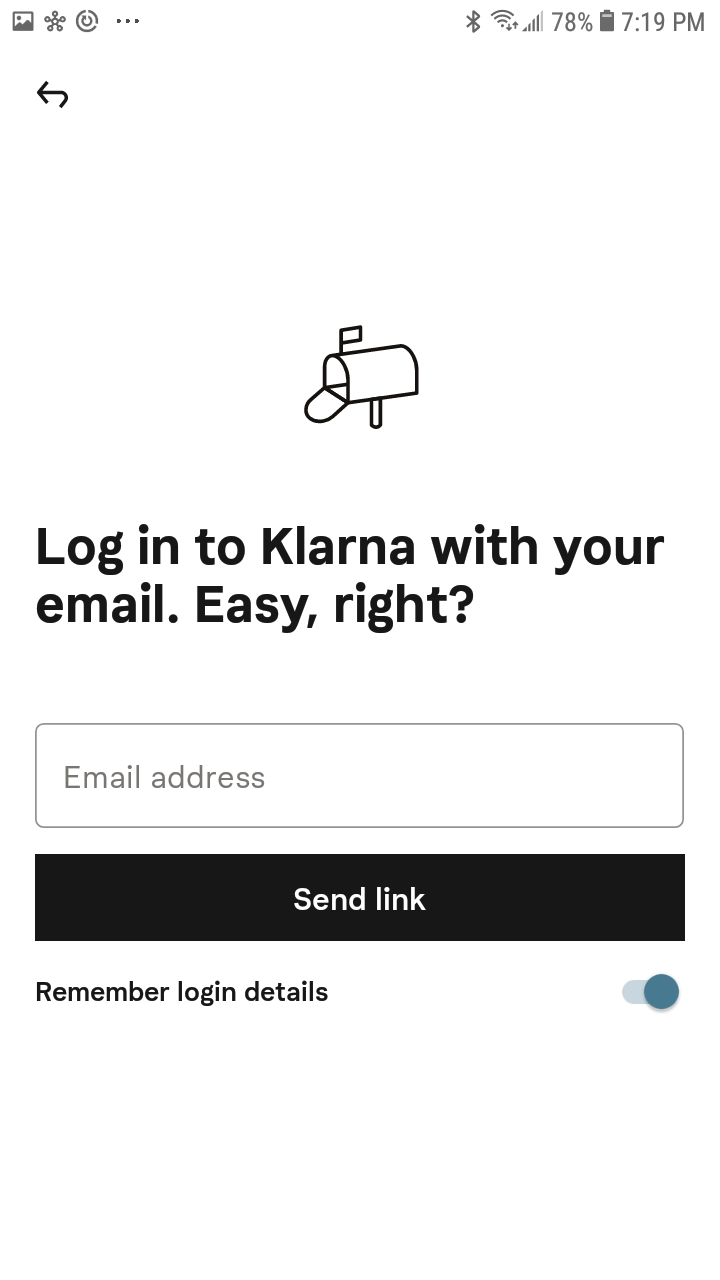EditText: (35, 723, 684, 829)
Icon: (37, 82, 69, 110)
Image: (304, 325, 420, 430)
Switch: (621, 974, 679, 1011)
Text: (36, 524, 665, 635), (37, 980, 329, 1007), (66, 765, 265, 789)
TextButton: (35, 854, 685, 941)
UpperTaskBar: (1, 1, 720, 34)
